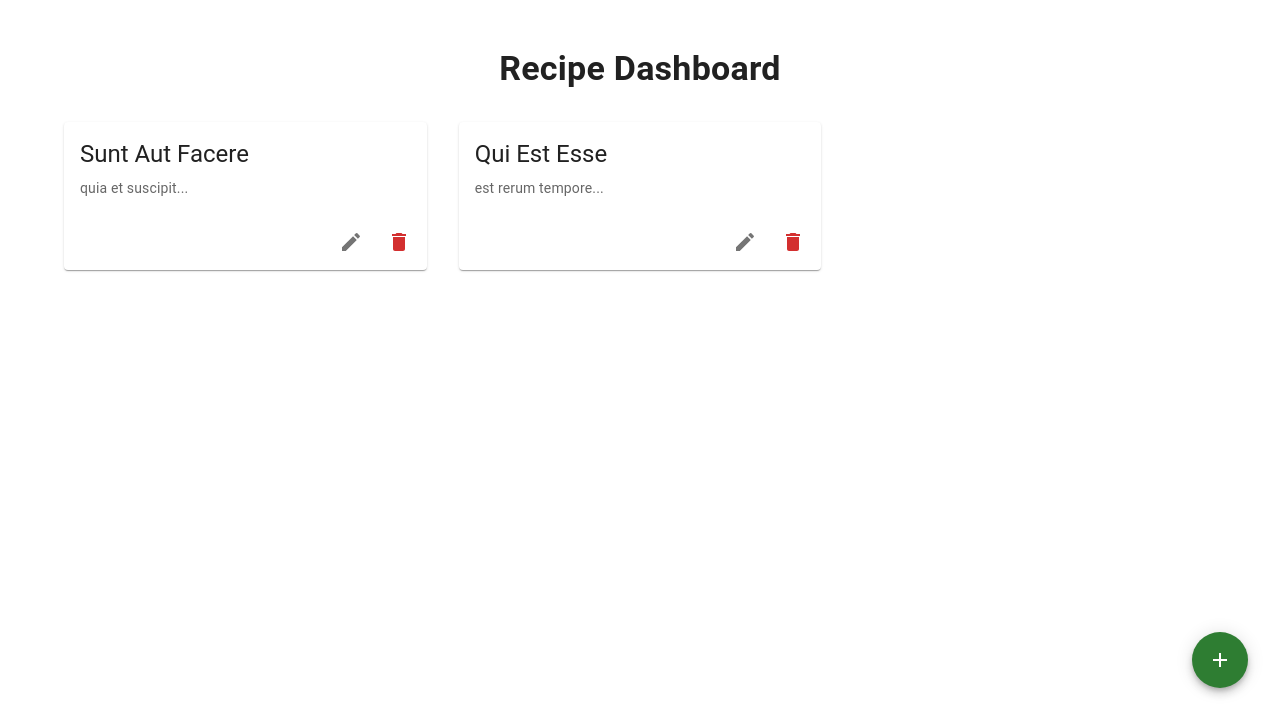
Test case: DashboardPage › deletes a recipe after confirmation
Check: the text "sunt aut facere quia et suscipit..." is shown, box 64,122 -> 427,270
Click the button named "delete sunt aut facere". click: coordinates (399, 242)
box: 379,222 -> 419,262
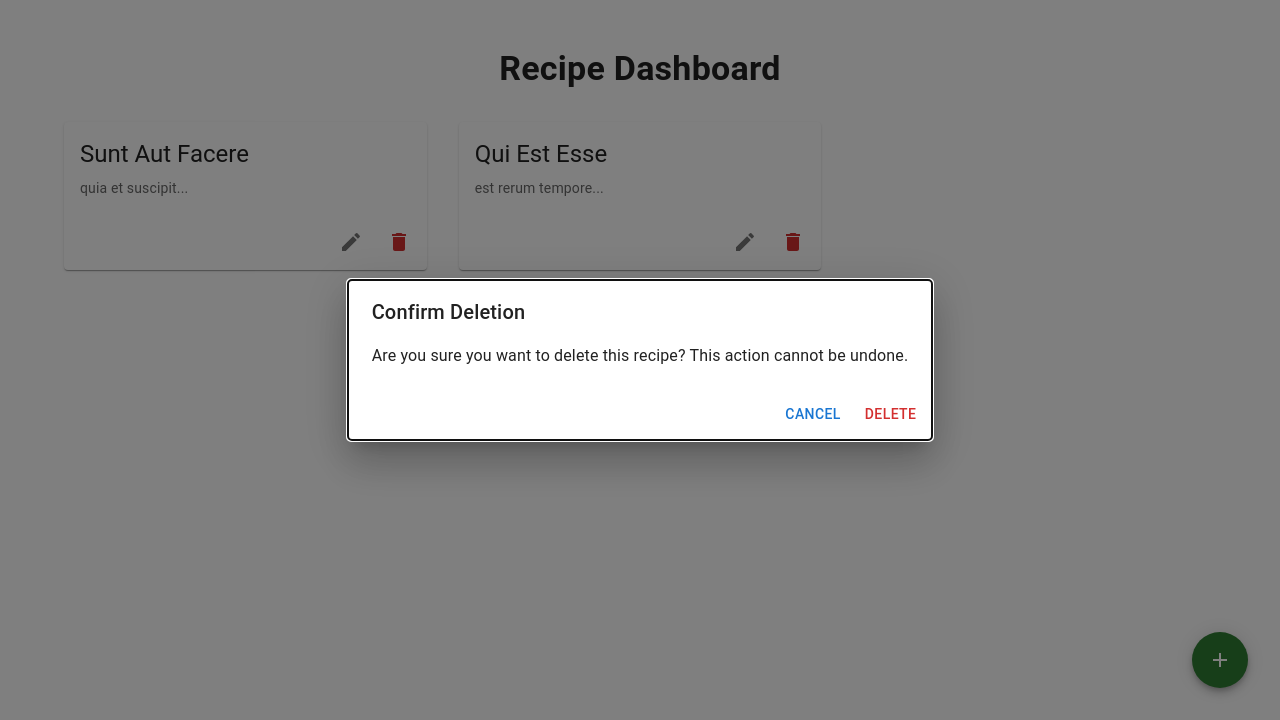
Check: the dialog "Confirm Deletion" is shown, box 348,280 -> 932,440
Click the button "Delete". click: coordinates (891, 414)
box: 857,396 -> 924,432
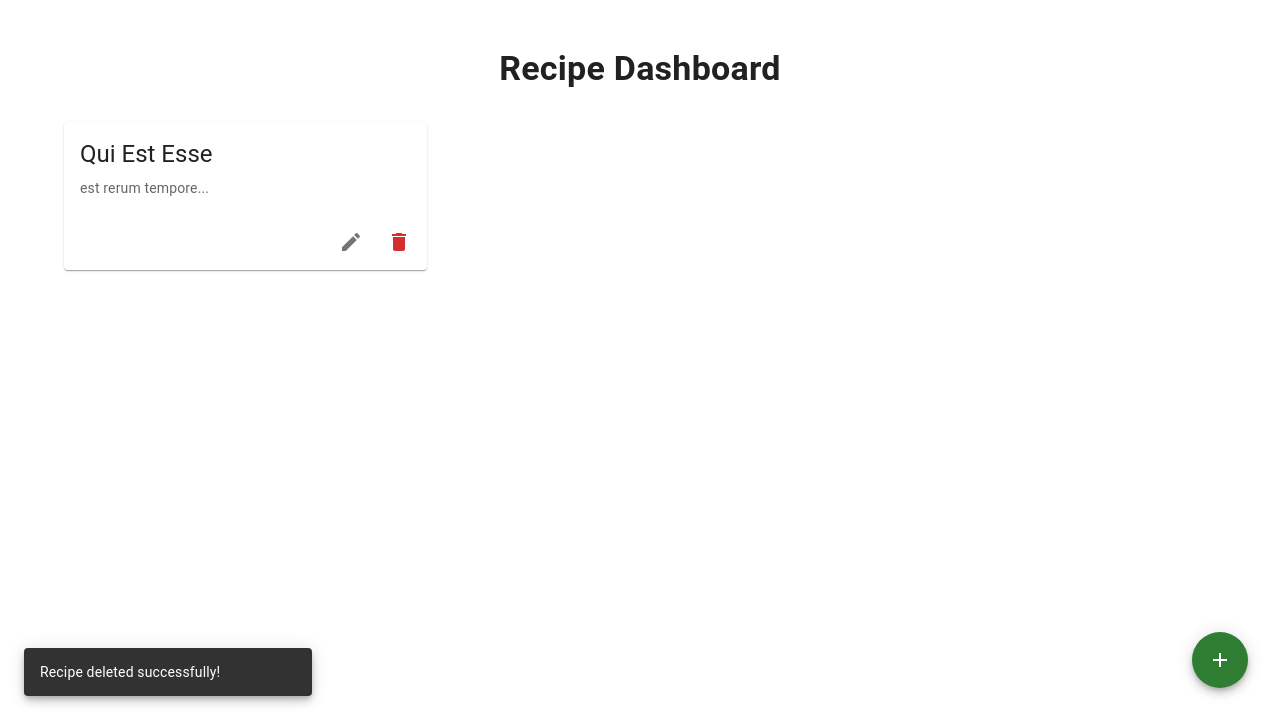
Check: the dialog is gone
Check: the heading "sunt aut facere" is gone
Check: the text "Recipe deleted successfully!" is shown, box 40,664 -> 220,680
